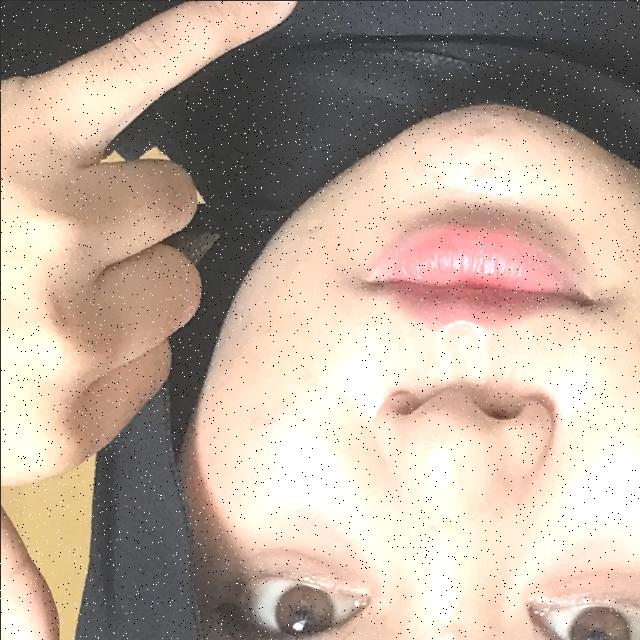telpon: (0, 0, 290, 640)
